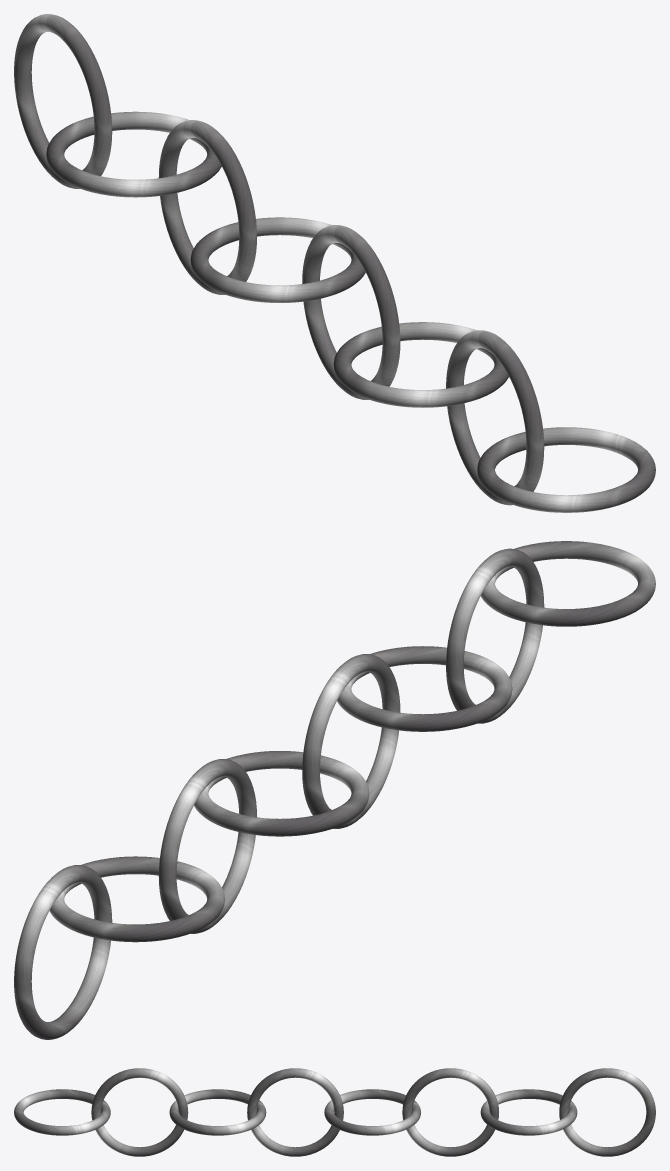
Rendered from 丸い鎖.fbx.
3 renders of one model, top to bottom at view 1: azimuth 30°, elevation 25°; view 2: azimuth 150°, elevation 25°; view 3: azimuth 270°, elevation 25°, orthographic. The views are drawn at different scales.
Visible parts, largest first — view 1: 丸い鎖; view 2: 丸い鎖; view 3: 丸い鎖.
Boxes of the visible parts, box(x1,y1,x2,y2) form: 丸い鎖: box(14, 14, 655, 512); 丸い鎖: box(14, 541, 655, 1039); 丸い鎖: box(14, 1068, 655, 1156).
Bounding box in the file's own units: 30.51 × 30.51 × 202.
Materials: 1 (1 with a texture image).
